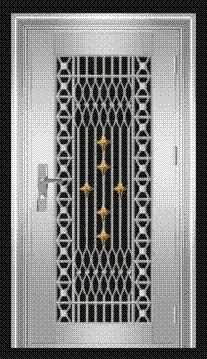door: (26, 27, 180, 345)
